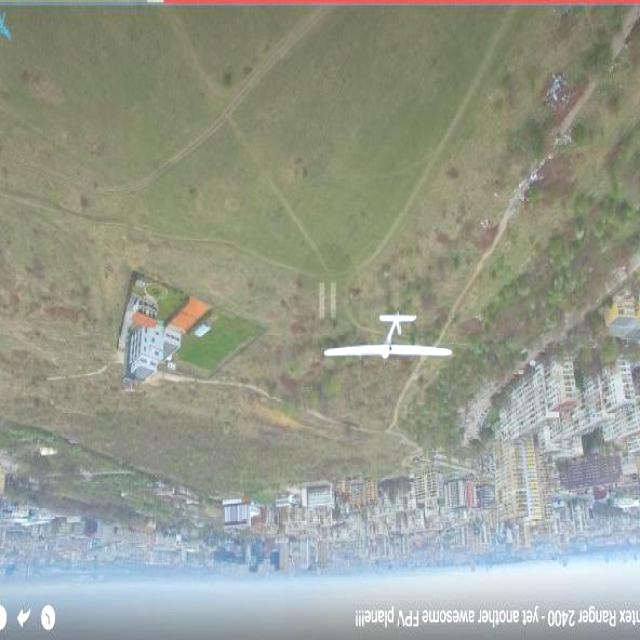plane: (323, 310, 455, 361)
